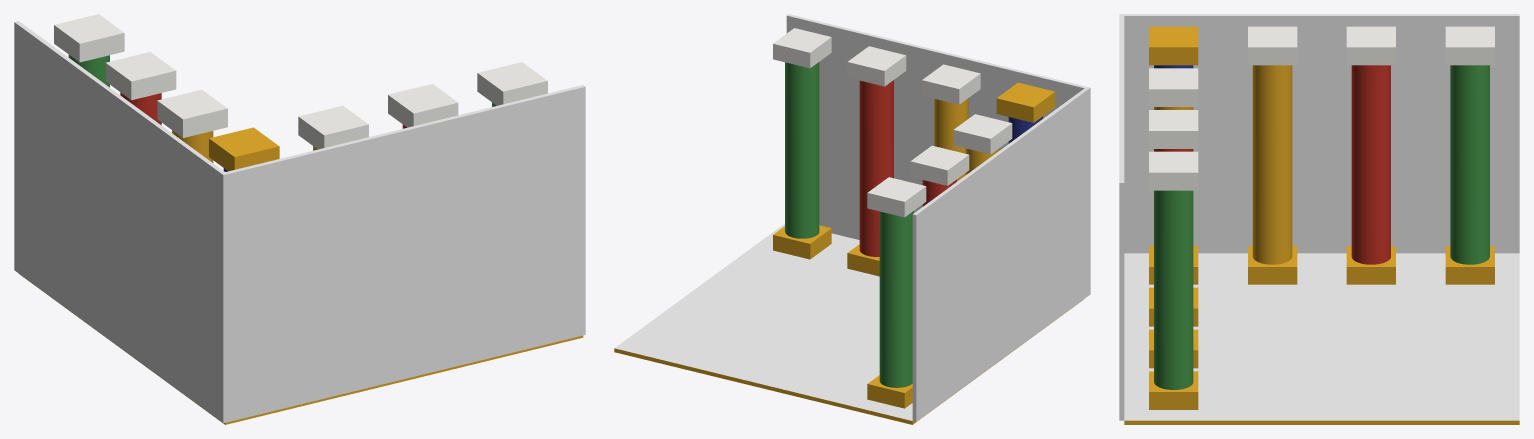
Rendered from pillars.obj.
The picture shows the model from 3 angles, left to right: view 1: azimuth 30°, elevation 25°; view 2: azimuth 150°, elevation 25°; view 3: azimuth 270°, elevation 25°; orthographic projection. The views are drawn at different scales.
Visible parts, largest first — view 1: Body9, Body1, Body5, Body2, Body8, Body7, Body3, Body6; view 2: Body9, Body1, Body8, Body6, Body2, Body5, Body7, Body3; view 3: Body1, Body9, Body3, Body2, Body5, Body8, Body6, Body7.
Part boxes in pixels (box(x1,y1,x2,y2)): Body9: box(14, 21, 585, 423); Body1: box(19, 55, 583, 424); Body5: box(105, 52, 176, 100); Body2: box(157, 89, 227, 137); Body8: box(54, 14, 124, 62); Body7: box(298, 105, 368, 149); Body3: box(477, 62, 547, 105); Body6: box(388, 84, 458, 127); Body9: box(786, 14, 1090, 421); Body1: box(614, 62, 1083, 424); Body8: box(867, 177, 926, 217); Body6: box(847, 46, 906, 86); Body2: box(953, 114, 1012, 154); Body5: box(910, 145, 969, 185); Body7: box(922, 64, 980, 104); Body3: box(773, 28, 831, 68); Body1: box(1124, 26, 1519, 424); Body9: box(1119, 14, 1519, 420); Body3: box(1149, 151, 1198, 190); Body2: box(1248, 26, 1297, 65); Body5: box(1346, 26, 1395, 65); Body8: box(1445, 26, 1494, 65); Body6: box(1149, 110, 1198, 148); Body7: box(1149, 68, 1198, 106).
Bounding box in the file's own units: 8.36 × 5.57 × 8.36.
